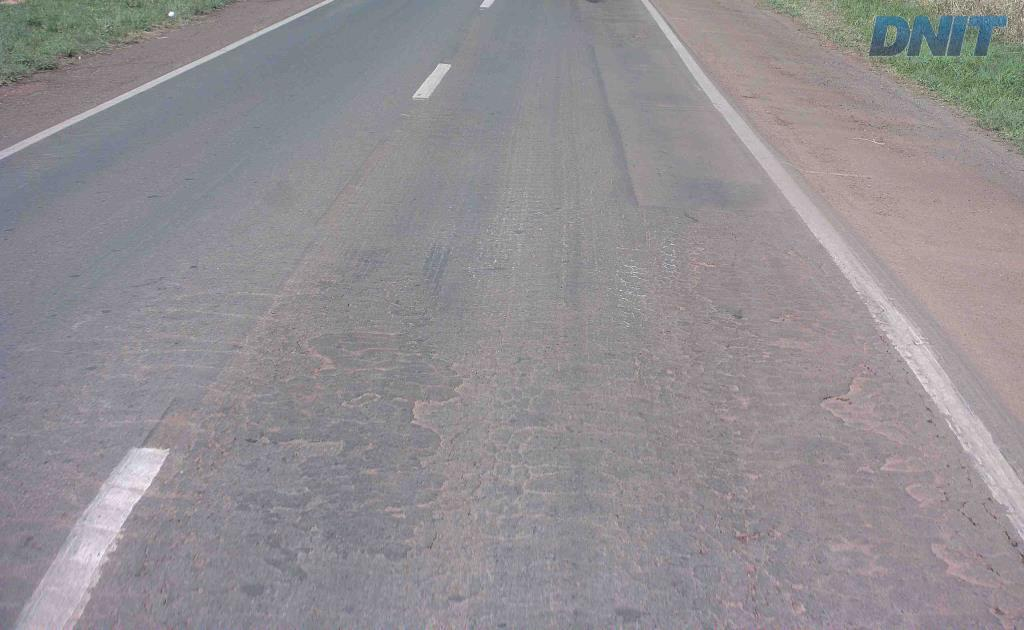pothole: (816, 369, 905, 436)
